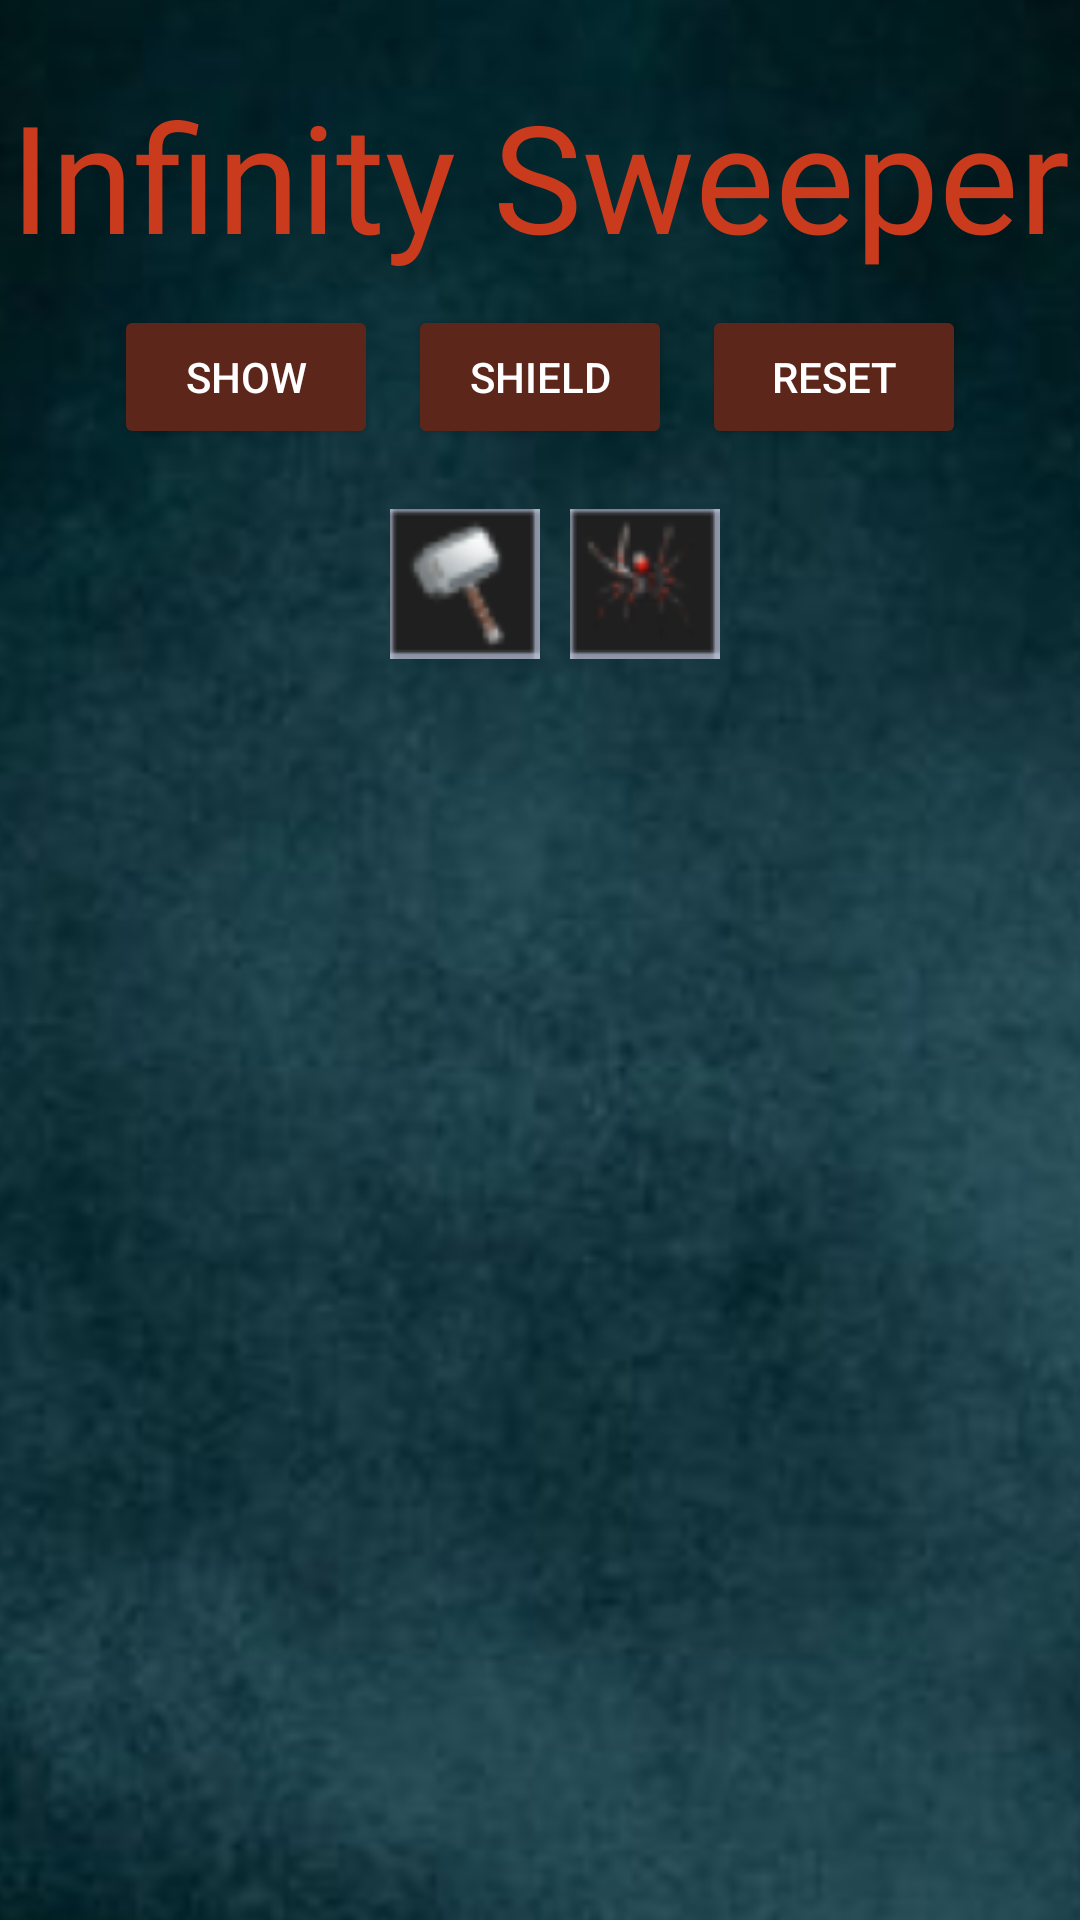

Named icons in this screenshot (1080x1920) and their bounding boxes, bbox=[x1, y1, x2, y2]:
hammer: bbox=[390, 509, 540, 659]
widow: bbox=[570, 509, 720, 659]
